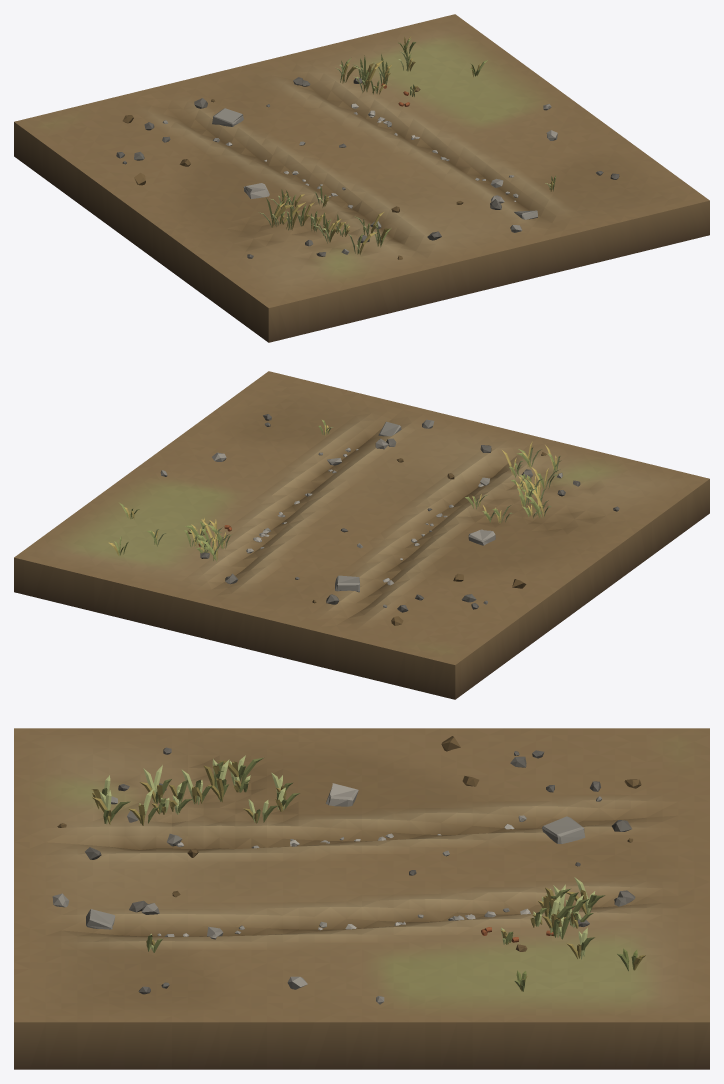
Rendered from dirt-verge-tile.glb.
The picture shows the model from 3 angles, top to bottom: view 1: azimuth 30°, elevation 25°; view 2: azimuth 150°, elevation 25°; view 3: azimuth 270°, elevation 25°; orthographic projection. The views are drawn at different scales.
Visible parts, largest first — view 1: dirt_verge_tile; view 2: dirt_verge_tile; view 3: dirt_verge_tile.
Boxes of the visible parts, bbox=[...] form: dirt_verge_tile: bbox=[14, 14, 709, 342]; dirt_verge_tile: bbox=[14, 371, 709, 699]; dirt_verge_tile: bbox=[14, 728, 709, 1069].
Bounding box in the file's own units: 4 × 0.5579 × 4.
